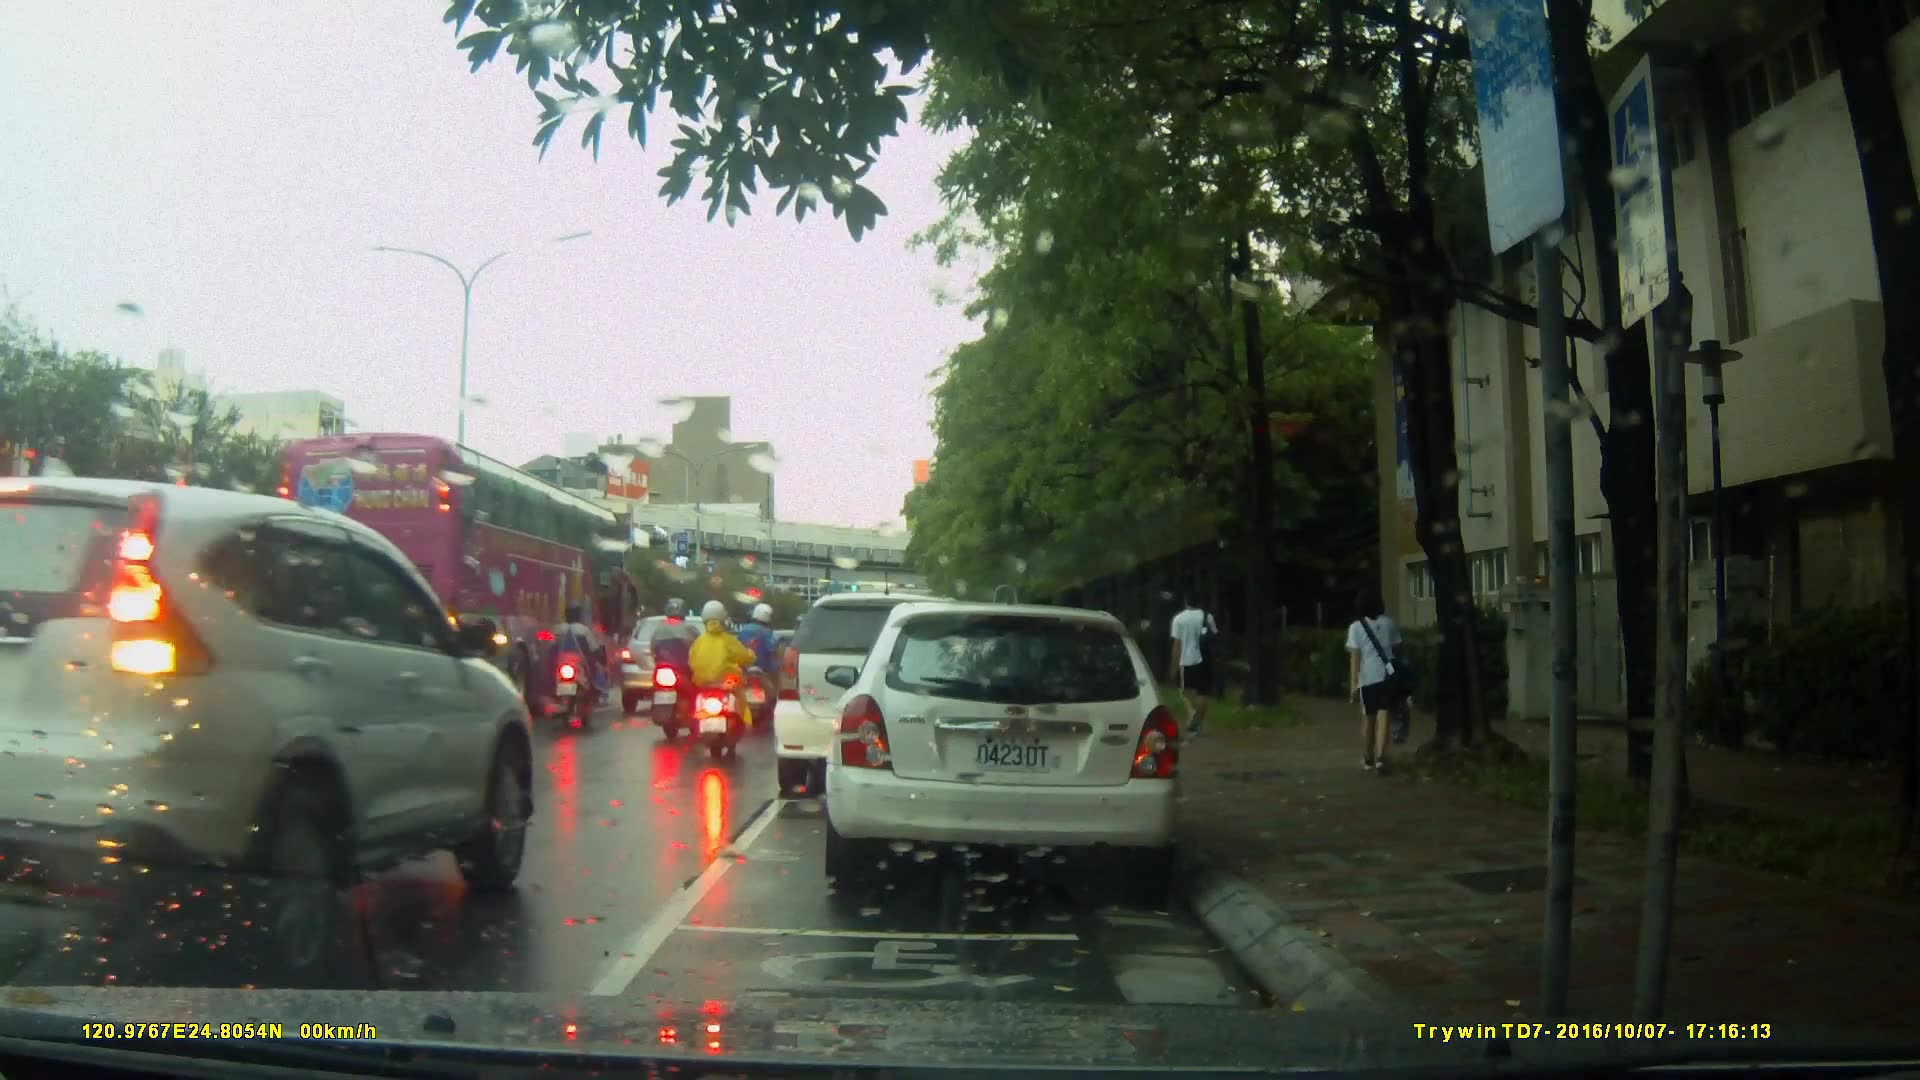pedestrian: (1340, 580, 1425, 788), (1161, 586, 1216, 737)
rider: (685, 600, 746, 760), (644, 593, 698, 740), (549, 605, 606, 726), (733, 605, 791, 726)
vehicle: (1, 473, 538, 987), (835, 594, 1194, 898), (265, 430, 633, 709), (776, 590, 1026, 784), (617, 615, 737, 708)
